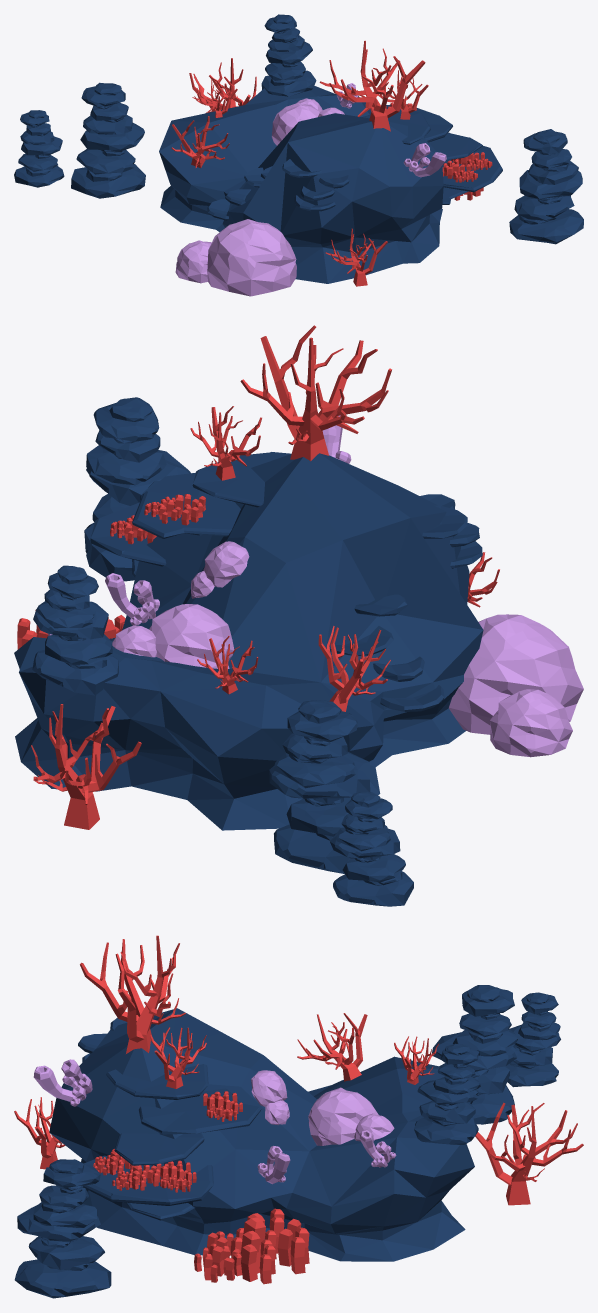
The model's file is environmentRotspartijV2.fbx.
3 renders of one model, top to bottom at view 1: azimuth 30°, elevation 25°; view 2: azimuth 150°, elevation 25°; view 3: azimuth 270°, elevation 25°, orthographic. The views are drawn at different scales.
Parts seen in each view (by area): view 1: pCube430, pCube382, pCube390, pSphere2, pCube361, pCube391, pCube359, pSphere3, pCube362, pCube393, pSphere5, pCube388 (+10 smaller); view 2: pCube430, pCube390, pSphere2, pCube382, pCube361, pCube391, pCube359, pCube387, pSphere3, pSphere5, pCube364, pCube366 (+14 smaller); view 3: pCube430, pCube382, pCube390, pCube383, pCube361, pCube359, pCube391, pCube387, pCube364, pSphere5, pCube362, pCube363 (+16 smaller).
Boxes of the visible parts, x1=… form: pCube430: x1=159, y1=86, x2=443, y2=283; pCube382: x1=509, y1=129, x2=583, y2=244; pCube390: x1=71, y1=82, x2=145, y2=198; pSphere2: x1=207, y1=219, x2=296, y2=296; pCube361: x1=261, y1=14, x2=316, y2=96; pCube391: x1=14, y1=110, x2=64, y2=187; pCube359: x1=319, y1=40, x2=425, y2=131; pSphere3: x1=175, y1=240, x2=211, y2=283; pCube362: x1=442, y1=146, x2=502, y2=192; pCube393: x1=325, y1=228, x2=387, y2=286; pSphere5: x1=271, y1=103, x2=319, y2=145; pCube388: x1=171, y1=116, x2=229, y2=168; pCube430: x1=14, y1=453, x2=483, y2=830; pCube390: x1=269, y1=700, x2=387, y2=873; pSphere2: x1=449, y1=614, x2=583, y2=734; pCube382: x1=84, y1=397, x2=190, y2=581; pCube361: x1=32, y1=565, x2=118, y2=695; pCube391: x1=330, y1=792, x2=413, y2=906; pCube359: x1=240, y1=325, x2=391, y2=461; pCube387: x1=31, y1=704, x2=141, y2=829; pSphere3: x1=490, y1=689, x2=572, y2=757; pSphere5: x1=149, y1=604, x2=234, y2=668; pCube364: x1=132, y1=472, x2=240, y2=538; pCube366: x1=192, y1=452, x2=291, y2=507; pCube430: x1=49, y1=1008, x2=474, y2=1261; pCube382: x1=14, y1=1159, x2=111, y2=1298; pCube390: x1=432, y1=985, x2=517, y2=1124; pCube383: x1=194, y1=1208, x2=309, y2=1284; pCube361: x1=414, y1=1043, x2=480, y2=1144; pCube359: x1=80, y1=935, x2=185, y2=1053; pCube391: x1=506, y1=992, x2=560, y2=1087; pCube387: x1=475, y1=1102, x2=583, y2=1205; pCube364: x1=138, y1=1088, x2=261, y2=1134; pSphere5: x1=308, y1=1087, x2=378, y2=1145; pCube362: x1=84, y1=1155, x2=213, y2=1205; pCube363: x1=114, y1=1133, x2=204, y2=1165.
Size of the model in its own units: 145 by 74.74 by 145.
